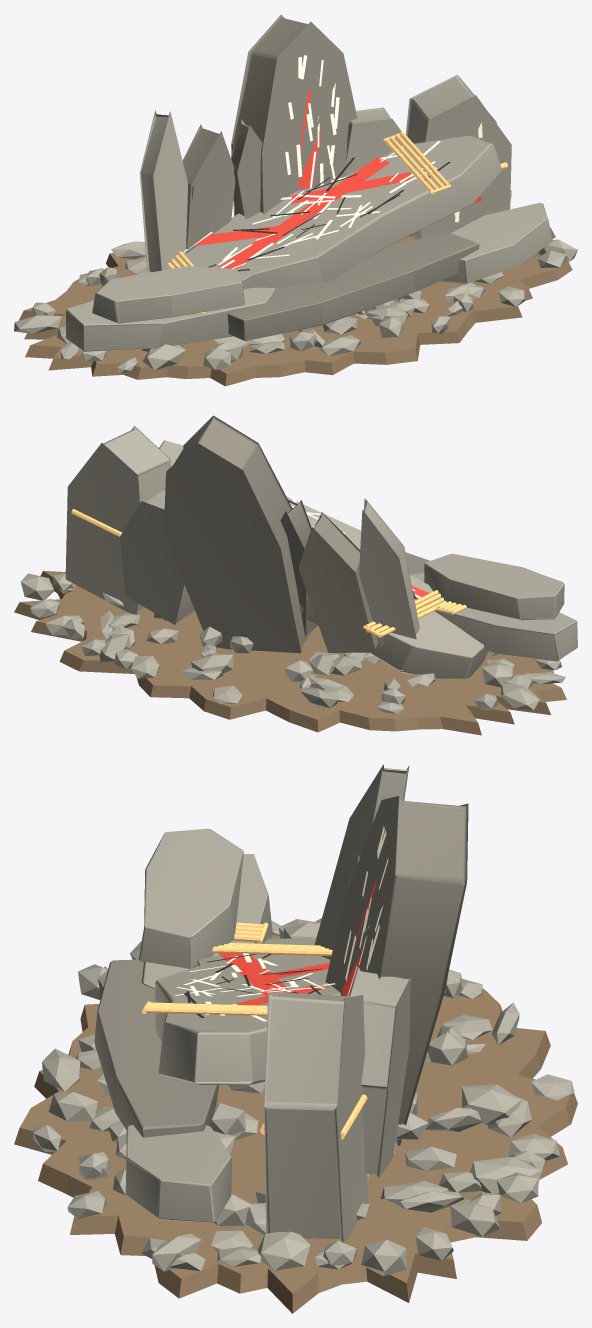
The model's file is SM_GIA_BloodAxeCairnSlabCluster_A01_SculptedMidpolyV2.fbx.
3 views of the same model, one above another, from view 1: azimuth 30°, elevation 25°; view 2: azimuth 150°, elevation 25°; view 3: azimuth 270°, elevation 25° (orthographic). The views are drawn at different scales.
Parts seen in each view (by area): view 1: A1_Sculpted_MainPaintedFallenSlab_LOD0, A1_Sculpted_AshMudBase_LOD0, A1_Sculpted_RearTallBrokenSlab_LOD0, A1_Sculpted_FrontBrokenSupportSlab_LOD0, A1_Sculpted_RightBoundUpright_LOD0, A1_Sculpted_LeftStackTopSlab_LOD0, A1_Sculpted_BackLeftThinBlade_LOD0, A1_Sculpted_LeftStackLowSlab_LOD0, A1_Sculpted_RightFrontRubbleSlab_LOD0, A1_Sculpted_LeftRearShard_LOD0, A1_Sculpted_BackRightShoulderStone_LOD0, A1_Sculpted_CenterNeedleShard_LOD0 (+9 smaller); view 2: A1_Sculpted_AshMudBase_LOD0, A1_Sculpted_RearTallBrokenSlab_LOD0, A1_Sculpted_RightBoundUpright_LOD0, A1_Sculpted_LeftRearShard_LOD0, A1_Sculpted_LeftStackTopSlab_LOD0, A1_Sculpted_MainPaintedFallenSlab_LOD0, A1_Sculpted_BackRightShoulderStone_LOD0, A1_Sculpted_BackLeftThinBlade_LOD0, A1_Sculpted_LeftStackLowSlab_LOD0, A1_Sculpted_CenterNeedleShard_LOD0, A1_Sculpted_Rubble_04_LOD0, A1_Sculpted_Rubble_105_LOD0 (+10 smaller); view 3: A1_Sculpted_AshMudBase_LOD0, A1_Sculpted_RightBoundUpright_LOD0, A1_Sculpted_RearTallBrokenSlab_LOD0, A1_Sculpted_MainPaintedFallenSlab_LOD0, A1_Sculpted_LeftStackTopSlab_LOD0, A1_Sculpted_FrontBrokenSupportSlab_LOD0, A1_Sculpted_RightFrontRubbleSlab_LOD0, A1_Sculpted_BackRightShoulderStone_LOD0, A1_Sculpted_BackLeftThinBlade_LOD0, A1_Sculpted_LeftStackLowSlab_LOD0, A1_Sculpted_Rubble_11_LOD0, A1_Sculpted_Rubble_57_LOD0 (+27 smaller).
Part boxes in pixels (x1=…): A1_Sculpted_MainPaintedFallenSlab_LOD0: x1=136, y1=135, x2=501, y2=289; A1_Sculpted_AshMudBase_LOD0: x1=19, y1=227, x2=572, y2=386; A1_Sculpted_RearTallBrokenSlab_LOD0: x1=231, y1=14, x2=357, y2=216; A1_Sculpted_FrontBrokenSupportSlab_LOD0: x1=227, y1=233, x2=479, y2=340; A1_Sculpted_RightBoundUpright_LOD0: x1=405, y1=74, x2=511, y2=239; A1_Sculpted_LeftStackTopSlab_LOD0: x1=92, y1=266, x2=244, y2=323; A1_Sculpted_BackLeftThinBlade_LOD0: x1=139, y1=110, x2=187, y2=272; A1_Sculpted_LeftStackLowSlab_LOD0: x1=65, y1=287, x2=275, y2=351; A1_Sculpted_RightFrontRubbleSlab_LOD0: x1=440, y1=202, x2=552, y2=283; A1_Sculpted_LeftRearShard_LOD0: x1=182, y1=124, x2=235, y2=252; A1_Sculpted_BackRightShoulderStone_LOD0: x1=345, y1=107, x2=407, y2=175; A1_Sculpted_CenterNeedleShard_LOD0: x1=231, y1=119, x2=262, y2=219; A1_Sculpted_AshMudBase_LOD0: x1=14, y1=570, x2=566, y2=735; A1_Sculpted_RearTallBrokenSlab_LOD0: x1=163, y1=415, x2=312, y2=653; A1_Sculpted_RightBoundUpright_LOD0: x1=65, y1=426, x2=170, y2=614; A1_Sculpted_LeftRearShard_LOD0: x1=298, y1=512, x2=378, y2=652; A1_Sculpted_LeftStackTopSlab_LOD0: x1=423, y1=553, x2=564, y2=620; A1_Sculpted_MainPaintedFallenSlab_LOD0: x1=159, y1=440, x2=488, y2=678; A1_Sculpted_BackRightShoulderStone_LOD0: x1=120, y1=489, x2=194, y2=624; A1_Sculpted_BackLeftThinBlade_LOD0: x1=359, y1=498, x2=419, y2=647; A1_Sculpted_LeftStackLowSlab_LOD0: x1=410, y1=573, x2=577, y2=661; A1_Sculpted_CenterNeedleShard_LOD0: x1=280, y1=500, x2=318, y2=636; A1_Sculpted_Rubble_04_LOD0: x1=501, y1=683, x2=539, y2=710; A1_Sculpted_Rubble_105_LOD0: x1=21, y1=573, x2=53, y2=600; A1_Sculpted_AshMudBase_LOD0: x1=14, y1=918, x2=577, y2=1313; A1_Sculpted_RightBoundUpright_LOD0: x1=264, y1=991, x2=367, y2=1243; A1_Sculpted_RearTallBrokenSlab_LOD0: x1=325, y1=796, x2=468, y2=1145; A1_Sculpted_MainPaintedFallenSlab_LOD0: x1=155, y1=938, x2=340, y2=1085; A1_Sculpted_LeftStackTopSlab_LOD0: x1=138, y1=828, x2=243, y2=969; A1_Sculpted_FrontBrokenSupportSlab_LOD0: x1=94, y1=959, x2=219, y2=1137; A1_Sculpted_RightFrontRubbleSlab_LOD0: x1=125, y1=1125, x2=231, y2=1222; A1_Sculpted_BackRightShoulderStone_LOD0: x1=350, y1=967, x2=411, y2=1177; A1_Sculpted_BackLeftThinBlade_LOD0: x1=314, y1=764, x2=409, y2=959; A1_Sculpted_LeftStackLowSlab_LOD0: x1=141, y1=854, x2=272, y2=988; A1_Sculpted_Rubble_11_LOD0: x1=462, y1=1084, x2=520, y2=1124; A1_Sculpted_Rubble_57_LOD0: x1=257, y1=1231, x2=310, y2=1270.
Size of the model in its own units: 21925 by 35286 by 15604.
